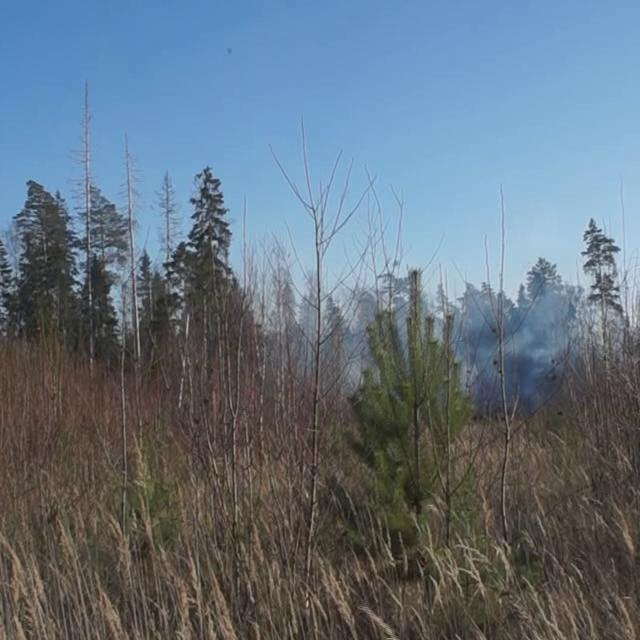Smoke: (304, 277, 604, 420)
